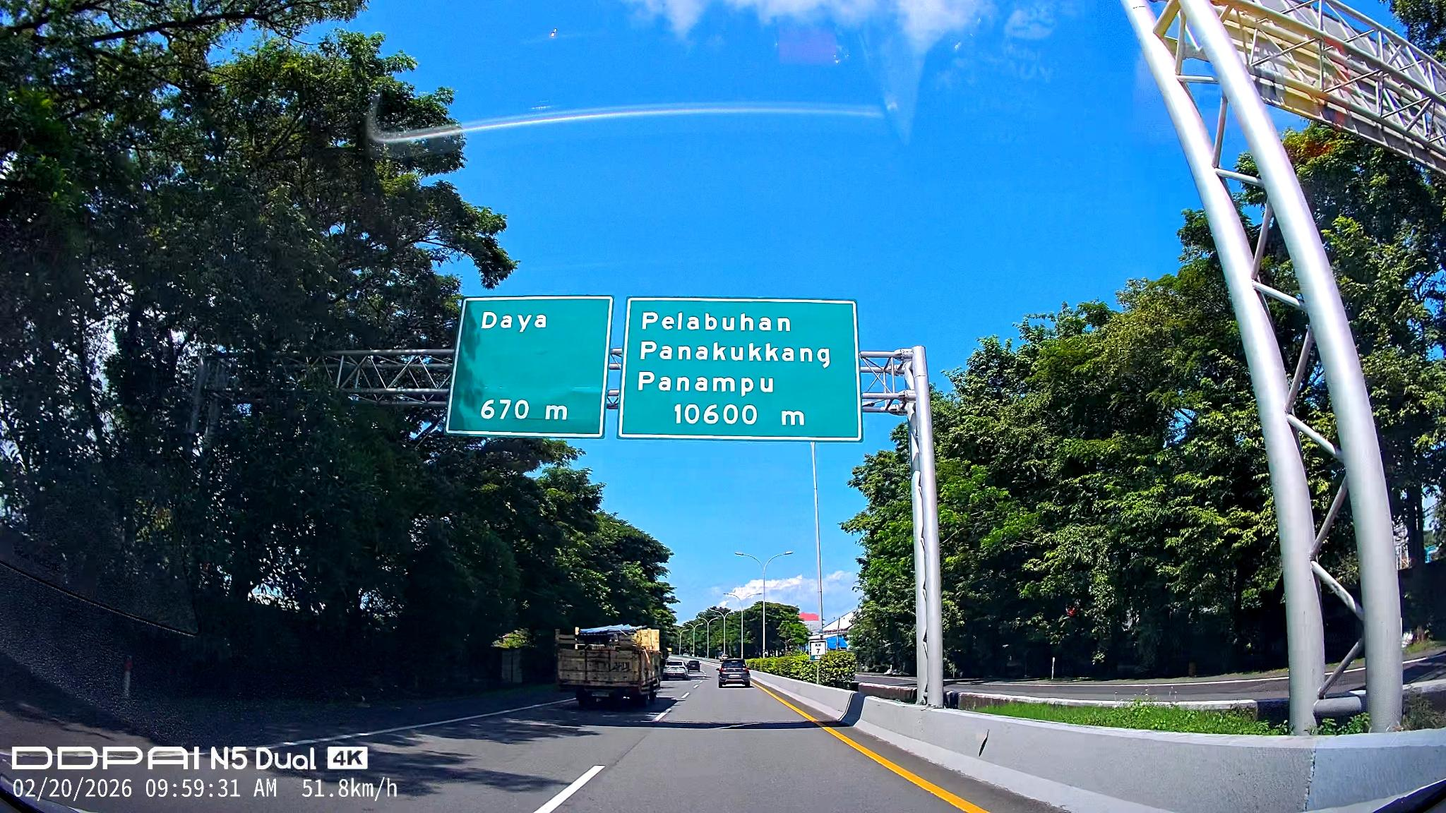rambu_teks: (616, 294, 865, 444), (444, 294, 617, 441)
